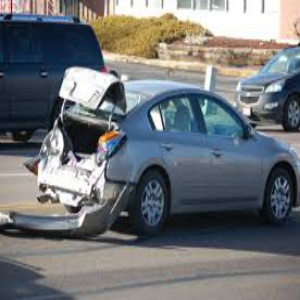bonnet: (53, 58, 135, 128)
bumper: (6, 174, 129, 253)
